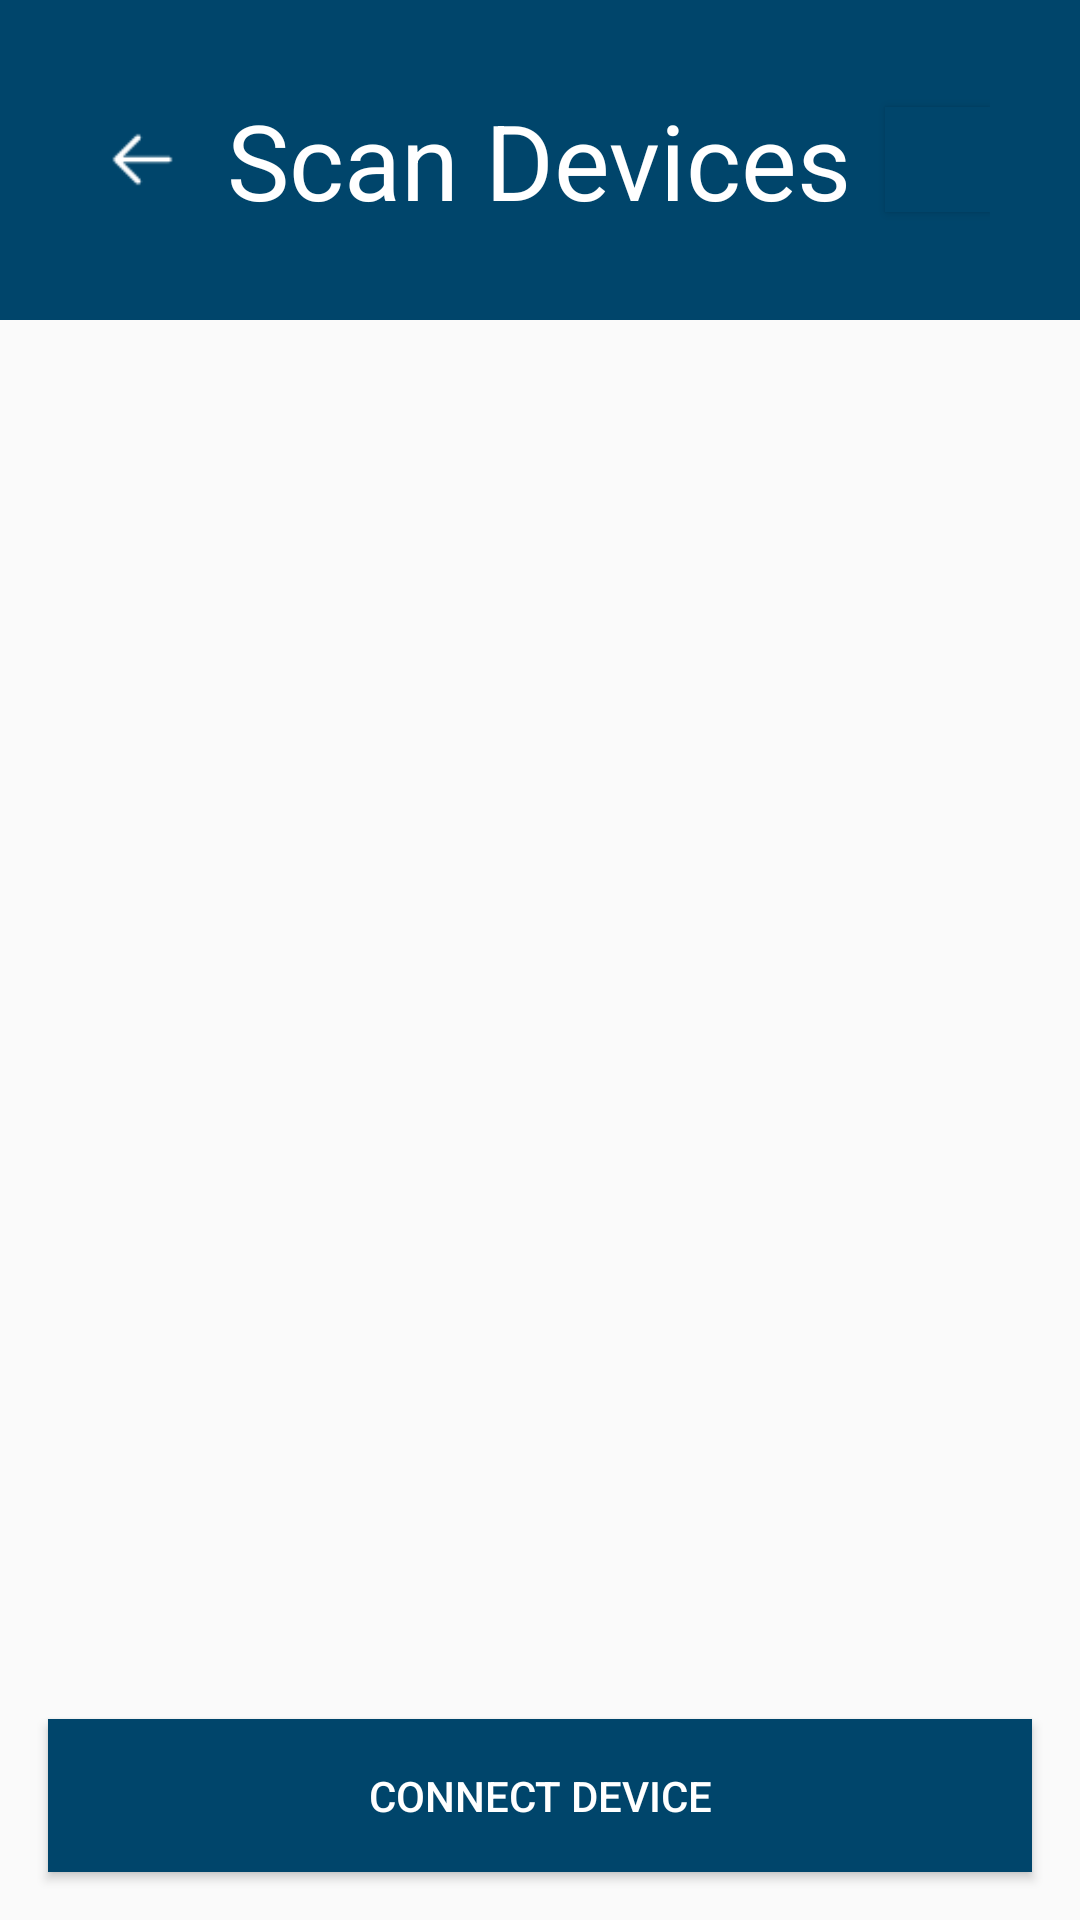

Icon bounding boxes for this 1080*1920 phone screenshot, format [left=x1, top=y1, right=x2, bottom=y2]:
back: [left=112, top=134, right=173, bottom=185]
